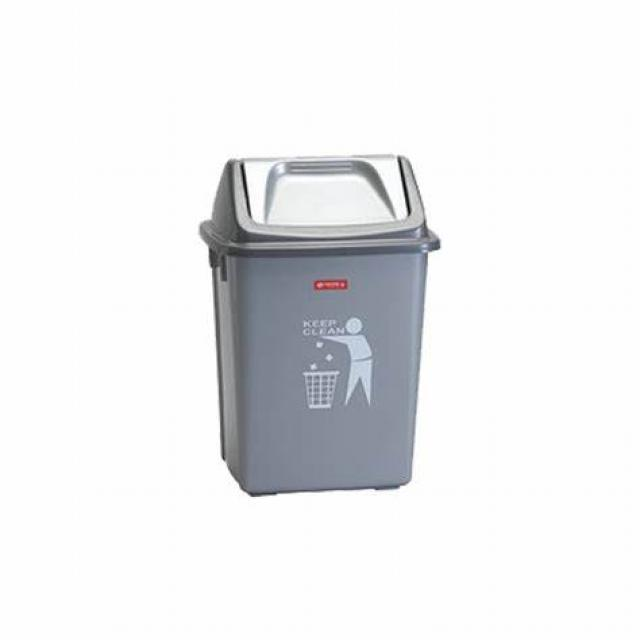garbage container: (200, 134, 464, 516)
